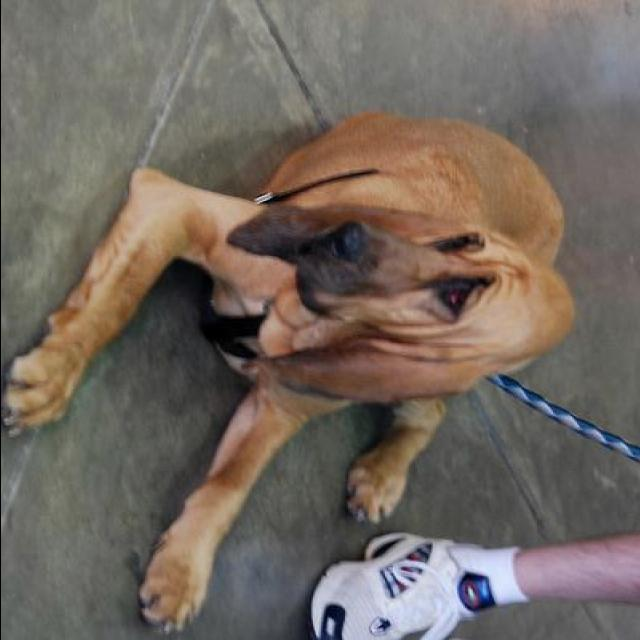bloodhound: (1, 115, 578, 627)
